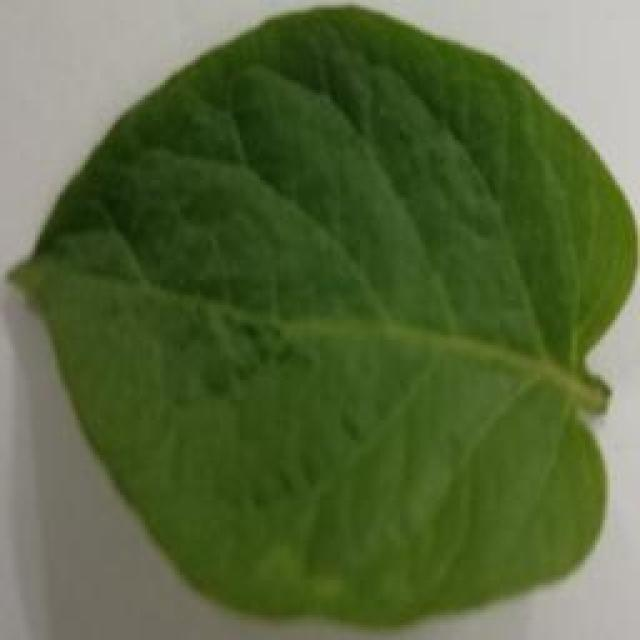Potato_Healthy: (7, 5, 625, 629)
